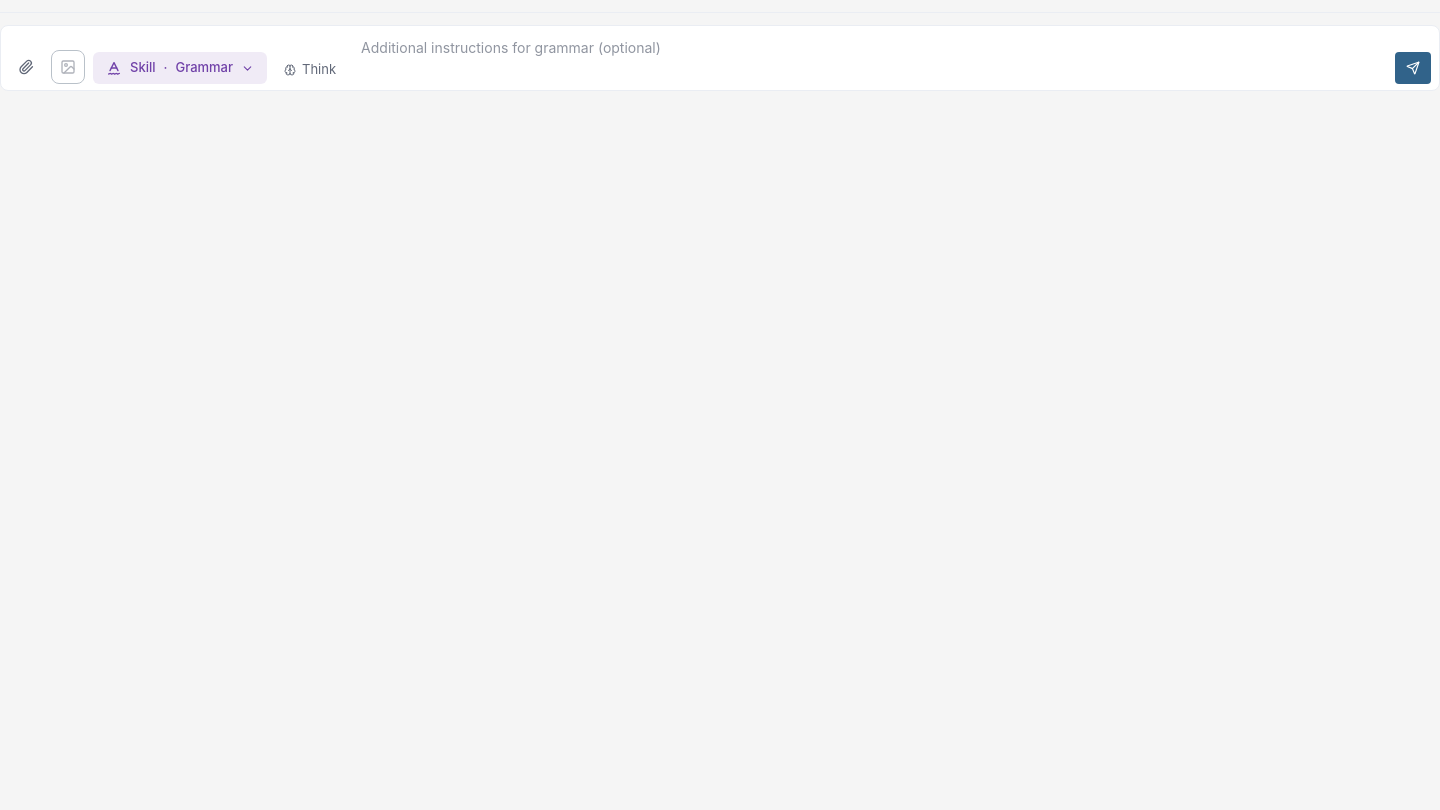
Scenario: ImproveMode › layout-token loss warning › warns when the original markdown had layout tokens but the AI output lost them
Click the button named "Improve Page".
click(1413, 68)  # box [1395,52,1431,84]
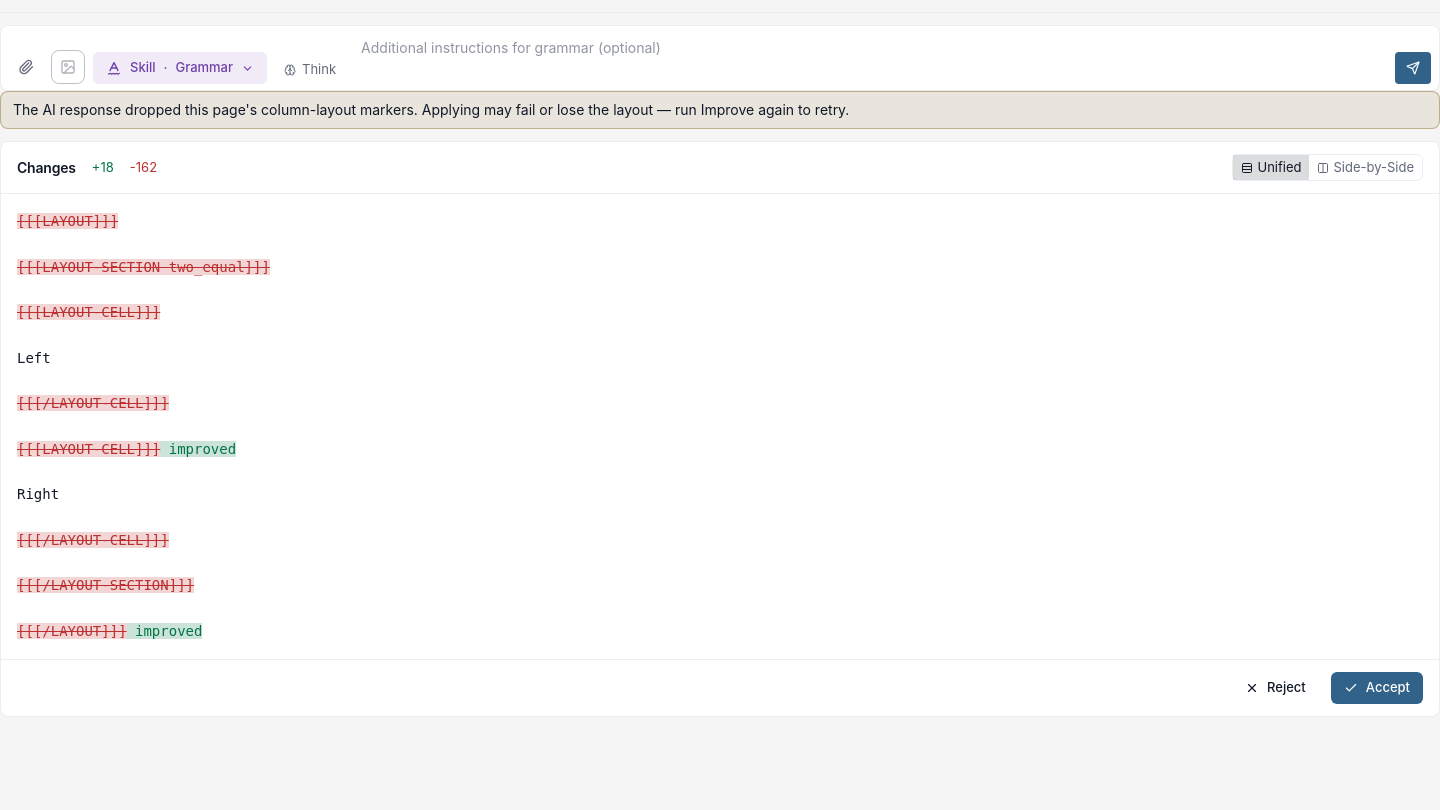
Check: the element with test id "unified-diff" is shown, box [17,213,270,639]
Check: the message with test id "layout-token-loss-warning" shows "layout", box [13,101,849,118]
